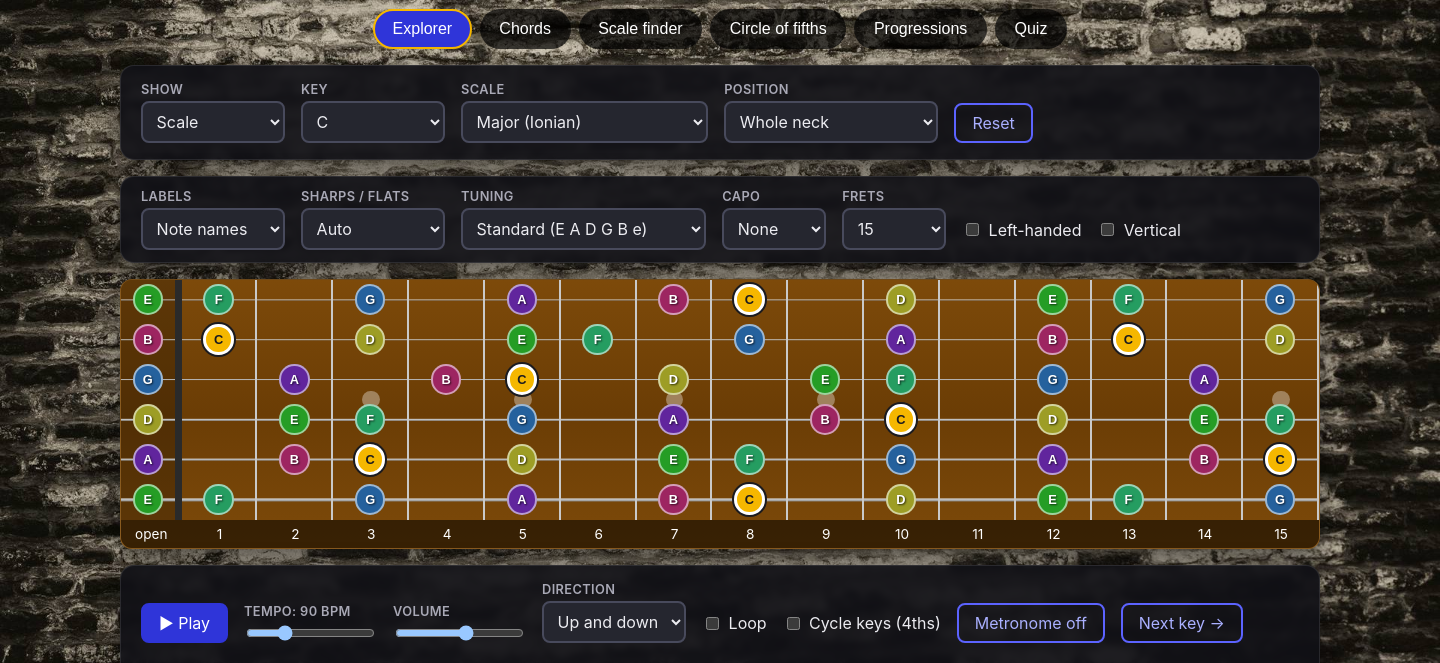
Test: switching to arpeggio mode shows chord types
The width and height of the screenshot is (1440, 663).
Select "Arpeggio" in the dropdown labelled "Show" at coordinates (213, 122), box 141,101 -> 285,143
(page scrolled)
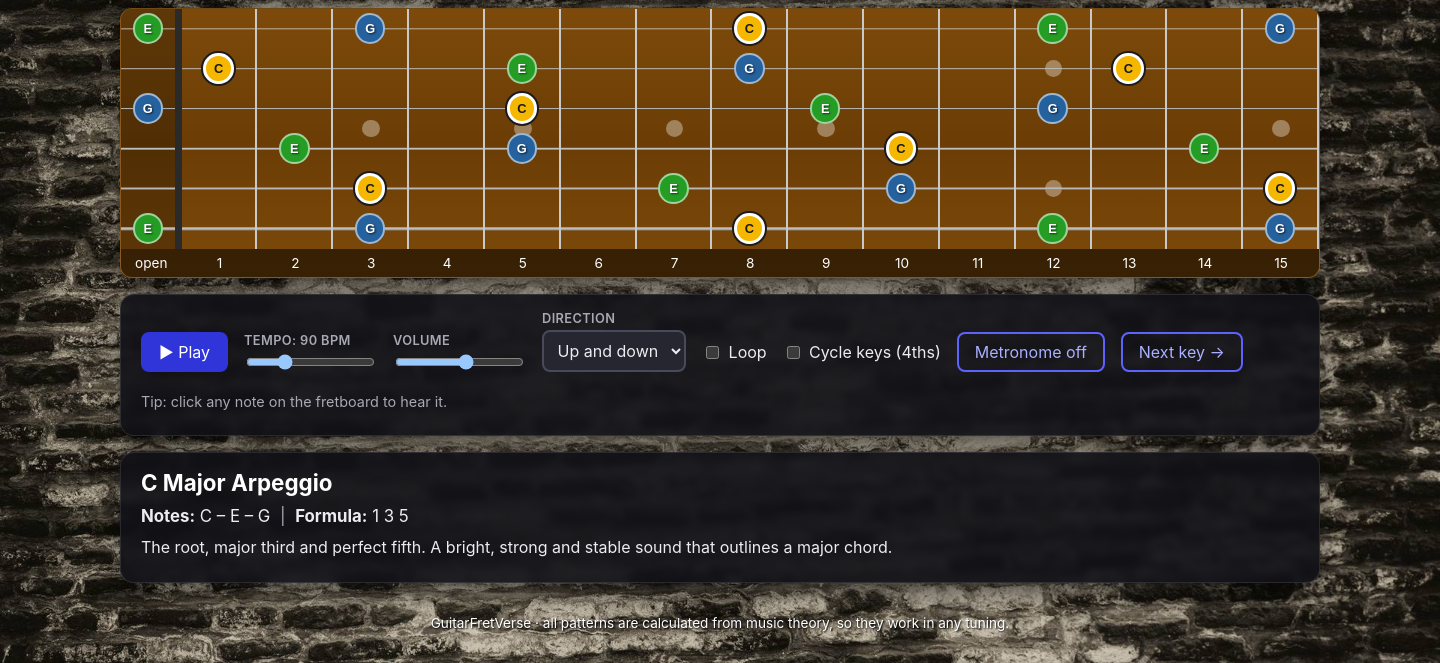
Check: the heading "C Major Arpeggio" is shown, box 141,469 -> 332,496
